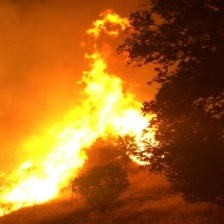fire: (1, 10, 138, 218)
